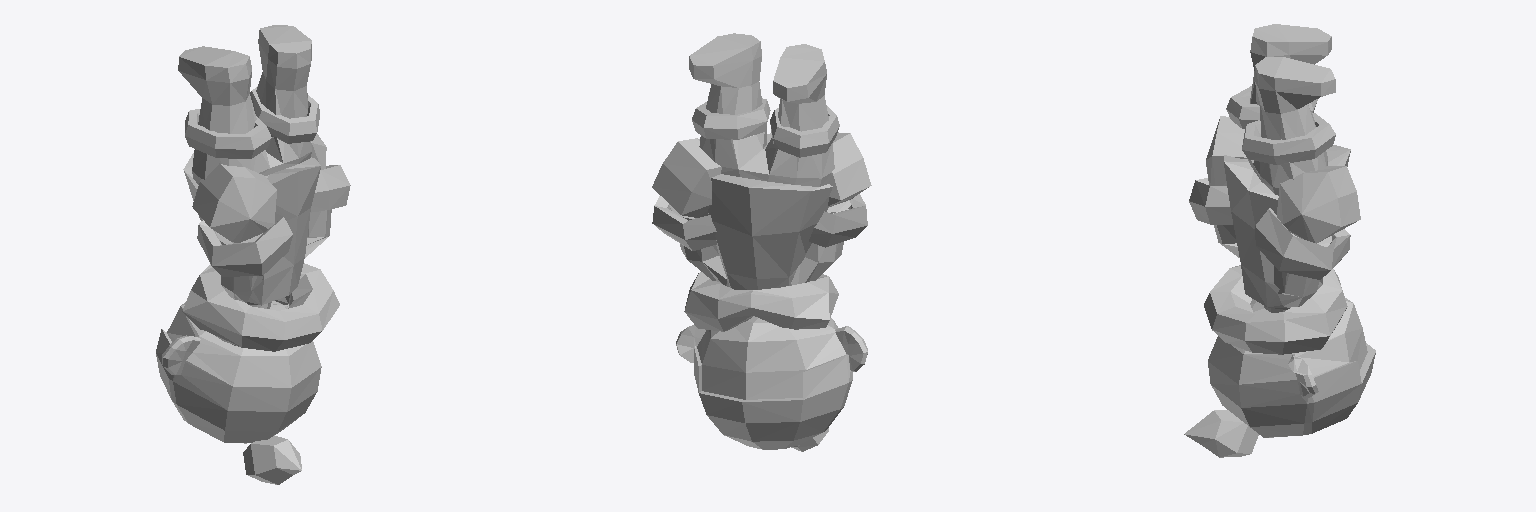
The model's file is eikastanding_000367.obj.
The picture shows the model from 3 angles: view 1: azimuth 30°, elevation 25°; view 2: azimuth 150°, elevation 25°; view 3: azimuth 270°, elevation 25°; orthographic projection.
Visible parts, largest first — view 1: Cylinder; view 2: Cylinder; view 3: Cylinder.
Boxes of the visible parts, box(x1,y1,x2,y2) form: Cylinder: box(156, 25, 350, 484); Cylinder: box(652, 33, 871, 451); Cylinder: box(1184, 24, 1375, 457).
Bounding box in the file's own units: 27.08 × 55.8 × 23.43.